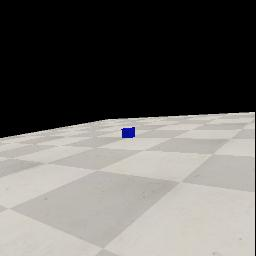box: (121, 127, 135, 138)
